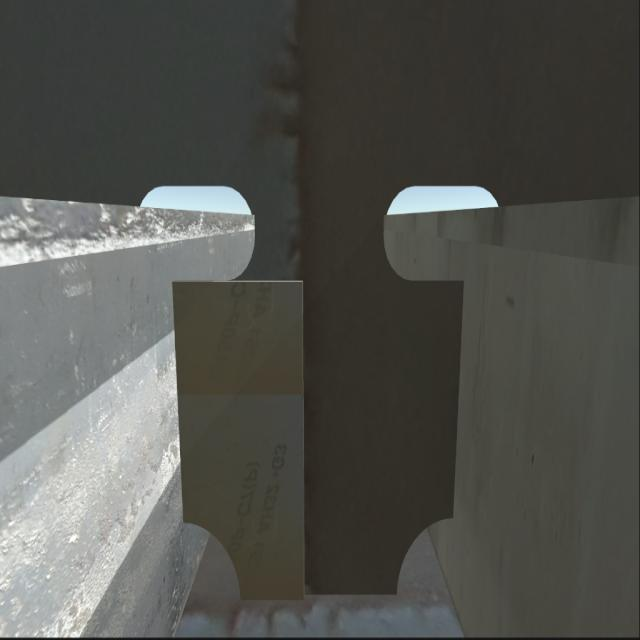fillet_hole: (181, 524, 238, 604), (394, 520, 450, 593)
fillet_yong_jeop_jang: (236, 580, 402, 610)
longi_yong_jeop_jang: (445, 274, 474, 516), (169, 270, 189, 534)
plate_CP01: (173, 273, 313, 600)
